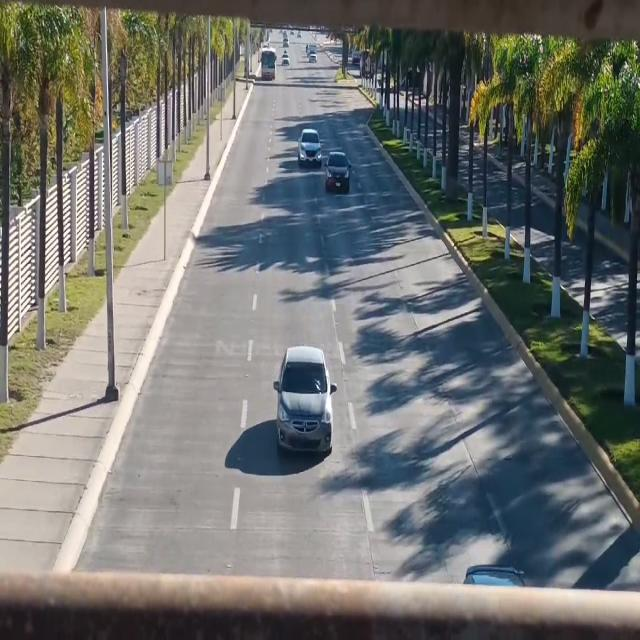Auto: (272, 337, 340, 462), (324, 149, 354, 198), (295, 124, 325, 168)
